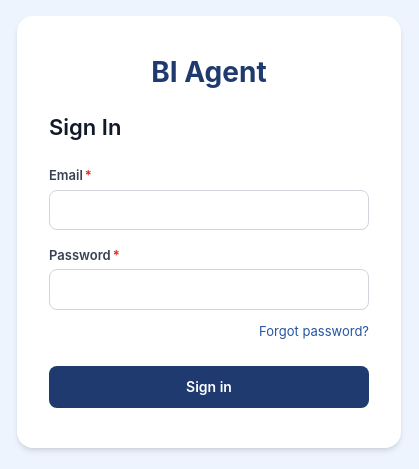
Test: LoginPage — email+password login › shows loading state while submitting
In the field labelled "Email*": (209, 210) [49,190,369,230], type "test@example.com"
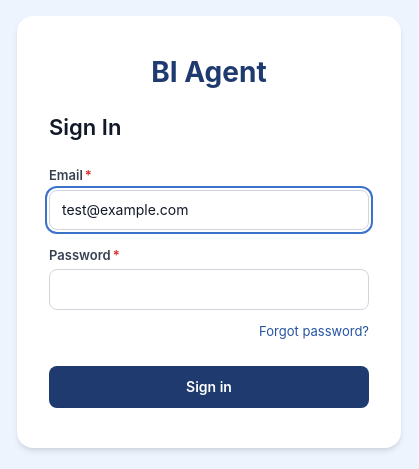
In the password field labelled "Password*": (209, 290) [49,269,369,310], type "password123"
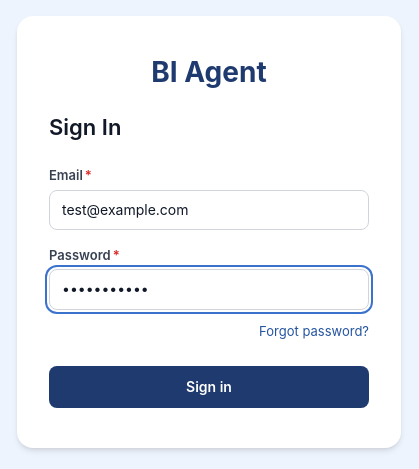
Click the button "Sign in": (209, 387) [49,366,369,408]
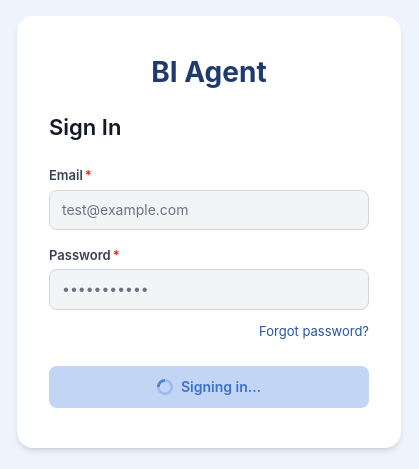
Result: the element labelled "Signing in…" is shown at [157,378,261,395]
Result: the button "Signing in…" is disabled at [49,366,369,408]
